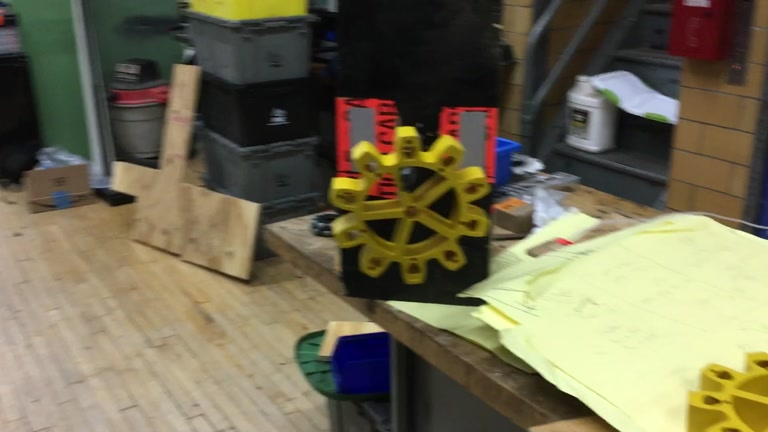gear: (325, 124, 492, 282), (688, 345, 768, 431)
